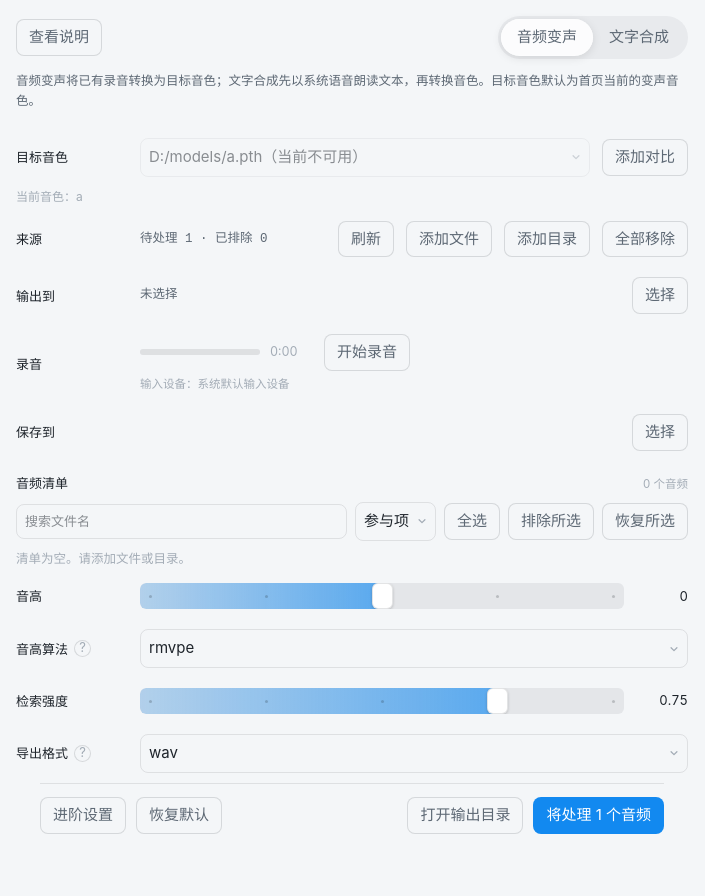
Test case: TtsPanel STS 任务生命周期 › snapshot 在途时别窗抢走任务：降级观察，取消键始终不出现
Click the button "将处理 1 个音频" at (599, 815), box x1=534 y1=797 x2=664 y2=834
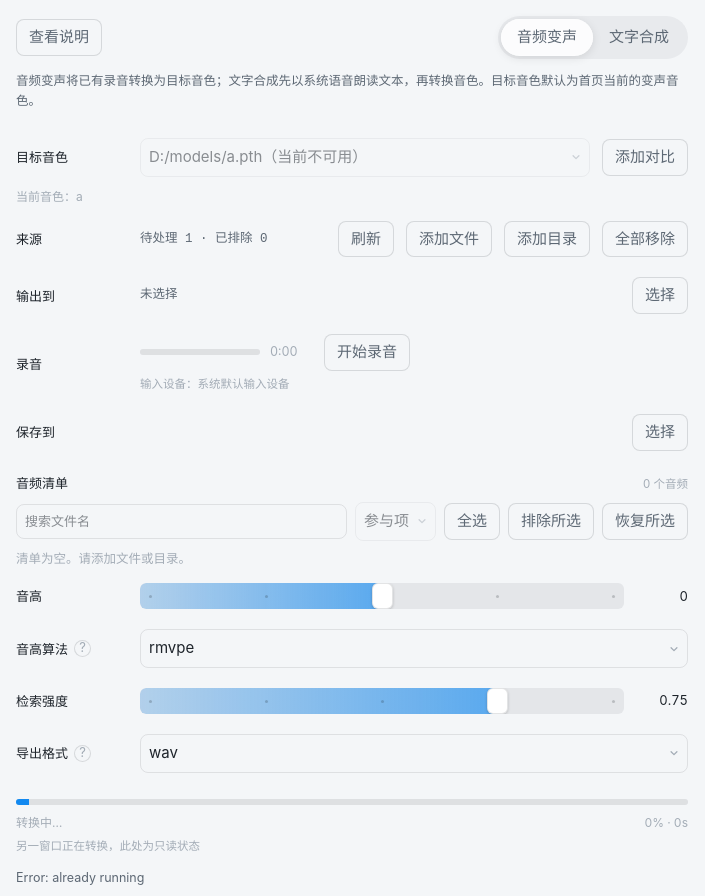
Expected: the button "添加目录" is disabled, x1=504 y1=220 x2=590 y2=257
Result: the text "另一窗口正在转换，此处为只读状态" is shown at x1=16 y1=839 x2=200 y2=853
